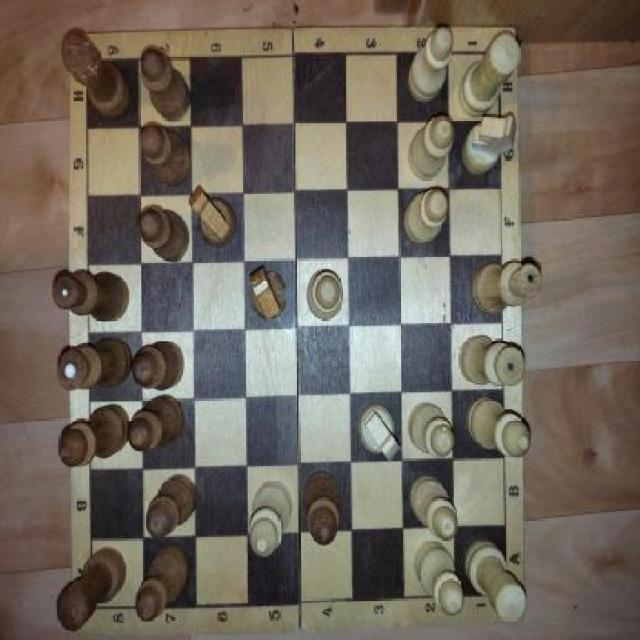chess-table-corners: (480, 558, 526, 628), (69, 33, 114, 96), (472, 26, 518, 86), (72, 576, 118, 632)
